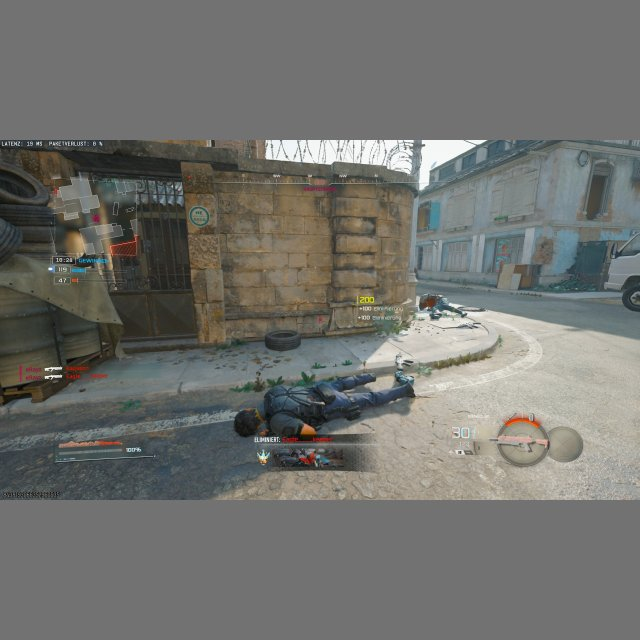head: (233, 408, 262, 437)
